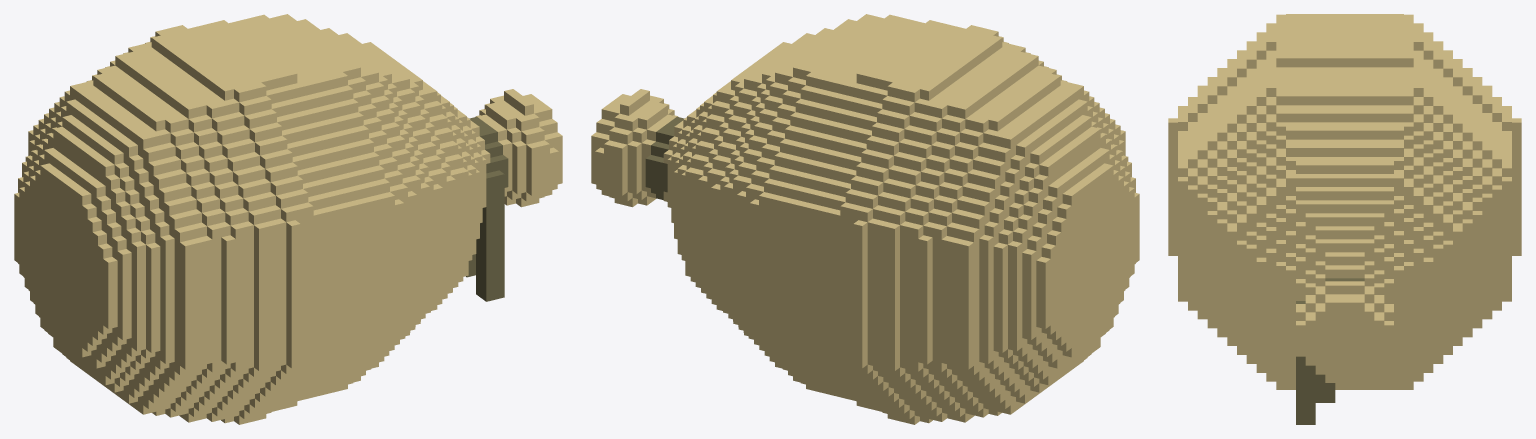
Rendered from stomach_sealed.glb.
3 renders of one model, left to right at view 1: azimuth 30°, elevation 25°; view 2: azimuth 150°, elevation 25°; view 3: azimuth 270°, elevation 25°, orthographic. The views are drawn at different scales.
Visible parts, largest first — view 1: stomach_sealed:compound; view 2: stomach_sealed:compound; view 3: stomach_sealed:compound.
Boxes of the visible parts, <box> form: stomach_sealed:compound: <box>14,14,562,424</box>; stomach_sealed:compound: <box>591,14,1139,424</box>; stomach_sealed:compound: <box>1168,14,1521,424</box>.
Bounding box in the file's own units: 0.212 × 0.14 × 0.144.
